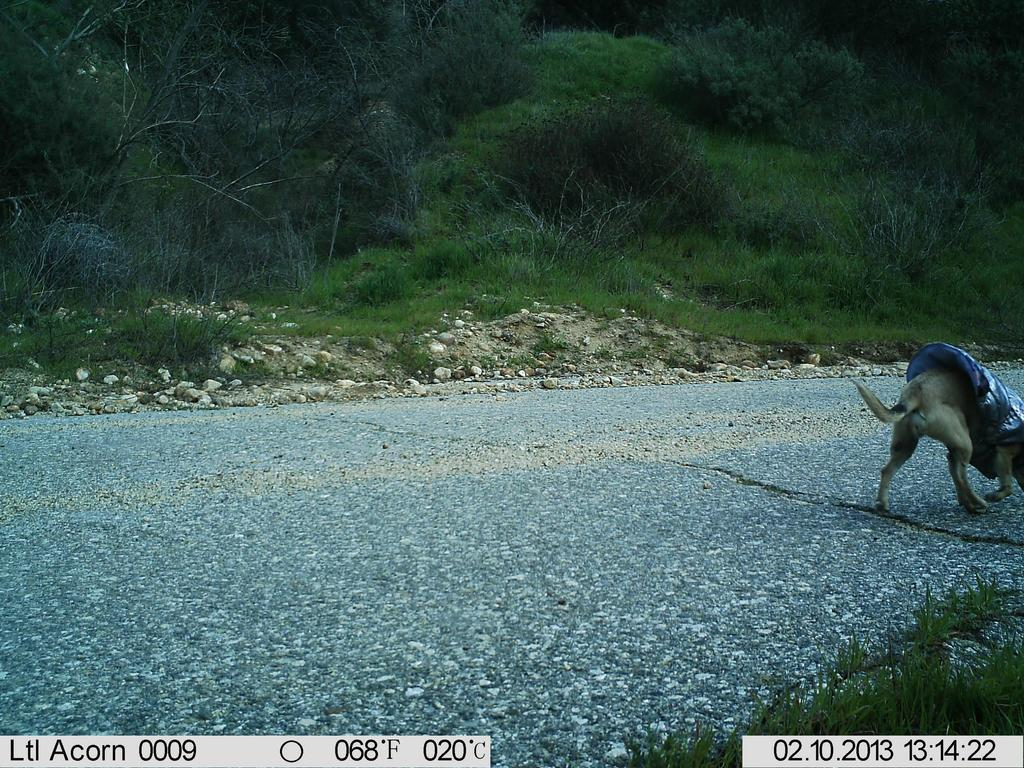dog: (848, 329, 1019, 543)
